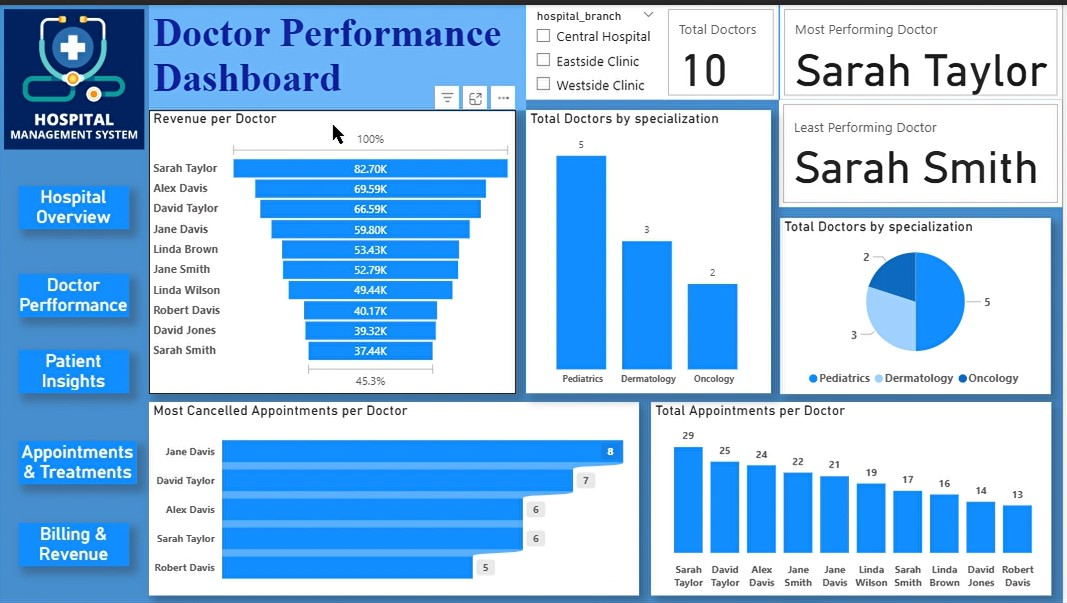

What the dashboard file says about the page in this screenshot:
{"tool":"powerbi","page":{"name":"Doctor Performance","canvas":[1280,720],"ordinal":0},"visuals":[{"type":"textbox","box":[180.3,0,454.2,126.6],"z":0},{"type":"cardVisual","fields":{"Data":["doctors.Total Doctors"]},"box":[801,0,137.6,114.2],"z":1000},{"type":"slicer","fields":{"Values":["doctors.hospital_branch"]},"box":[634.5,0,166.5,114.2],"z":2000},{"type":"funnel","title":"Revenue per Doctor","fields":{"Category":["26 doctors with appointments.doctor_name"],"Y":["treatments.cost"]},"box":[180.3,126.6,441.8,341.3],"z":3000},{"type":"pieChart","fields":{"Category":["doctors.specialization"],"Y":["doctors.Total Doctors"]},"box":[940,256,326.2,212],"z":4000},{"type":"clusteredColumnChart","title":"Total Appointments per Doctor","fields":{"Category":["26 doctors with appointments.doctor_name"],"Y":["treatments.Total Appointment"]},"box":[784.5,477.6,481.7,232.6],"z":5000},{"type":"barChart","title":"Most Cancelled Appointments per Doctor","fields":{"Y":["13 top5 doctors with cancelled appointments.cancelled_appointments"],"Category":["13 top5 doctors with cancelled appointments.name"]},"box":[180.3,477.6,590.5,232.6],"z":6000},{"type":"cardVisual","fields":{"Data":["doctors.Most Performing Doctor"]},"box":[940,0,340,114.2],"z":7000},{"type":"cardVisual","fields":{"Data":["doctors.Least Performing Doctor"]},"box":[938.7,114.2,341.3,129.4],"z":8000},{"type":"columnChart","fields":{"Category":["doctors.specialization"],"Y":["doctors.Total Doctors"]},"box":[634.5,126.6,294.5,341.3],"z":9000},{"type":"image","box":[0,0,180.3,178.9],"z":10000},{"type":"actionButton","title":"Hospital Overview","box":[23.4,217.5,133.5,52.3],"z":11000},{"type":"actionButton","title":"Doctor Perfformance","box":[23.4,323.4,133.5,52.3],"z":12000},{"type":"actionButton","title":"Patient Insights","box":[23.4,415.7,133.5,52.3],"z":13000},{"type":"actionButton","title":"Appointments & Treatments","box":[23.4,524.4,143.1,52.3],"z":14000},{"type":"actionButton","title":"Billing & Revenue","box":[23.4,623.5,133.5,52.3],"z":15000}]}

Visuals, with their boxes in screenshot pixels (x1, y1, x2, y2), scaled from the page's 1280x720 canvas onto the 1067x603 screenshot:
textbox: x1=150, y1=0, x2=529, y2=106
cardVisual - doctors.Total Doctors: x1=668, y1=0, x2=782, y2=96
slicer - doctors.hospital_branch: x1=529, y1=0, x2=668, y2=96
"Revenue per Doctor" funnel: x1=150, y1=106, x2=519, y2=392
pieChart - doctors.specialization x doctors.Total Doctors: x1=784, y1=214, x2=1055, y2=392
"Total Appointments per Doctor" clusteredColumnChart: x1=654, y1=400, x2=1055, y2=595
"Most Cancelled Appointments per Doctor" barChart: x1=150, y1=400, x2=643, y2=595
cardVisual - doctors.Most Performing Doctor: x1=784, y1=0, x2=1066, y2=96
cardVisual - doctors.Least Performing Doctor: x1=782, y1=96, x2=1066, y2=204
columnChart - doctors.specialization x doctors.Total Doctors: x1=529, y1=106, x2=774, y2=392
image: x1=0, y1=0, x2=150, y2=150
"Hospital Overview" actionButton: x1=20, y1=182, x2=131, y2=226
"Doctor Perfformance" actionButton: x1=20, y1=271, x2=131, y2=315
"Patient Insights" actionButton: x1=20, y1=348, x2=131, y2=392
"Appointments & Treatments" actionButton: x1=20, y1=439, x2=139, y2=483
"Billing & Revenue" actionButton: x1=20, y1=522, x2=131, y2=566
